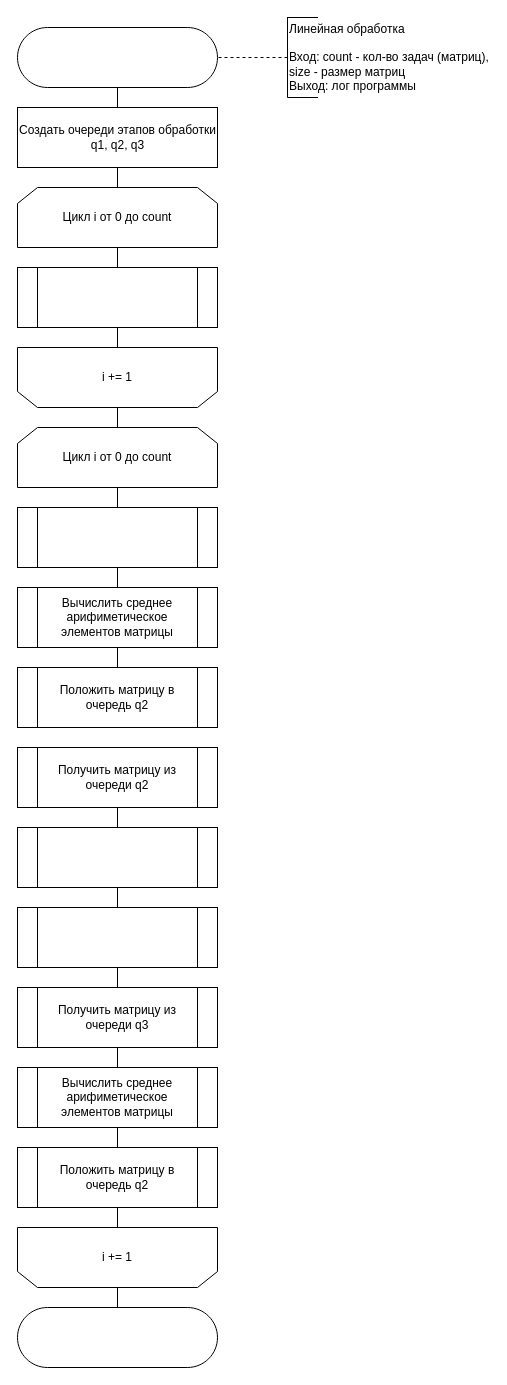
Image size: 507x1385. Some labels were removed from this diagram. The shapes that lost their labels are listed below. From the top down, each one's centre as x and y in pixels, then its label:
(x=117, y=57): Начало
(x=117, y=297): Сгенерировать матрицу по size и добавить её в очредь q1
(x=117, y=537): Получить матрицу из очереди q1
(x=117, y=857): Найти максимальный элемент в матрице
(x=117, y=937): Положить матрицу в очередь q3
(x=117, y=1337): Конец
